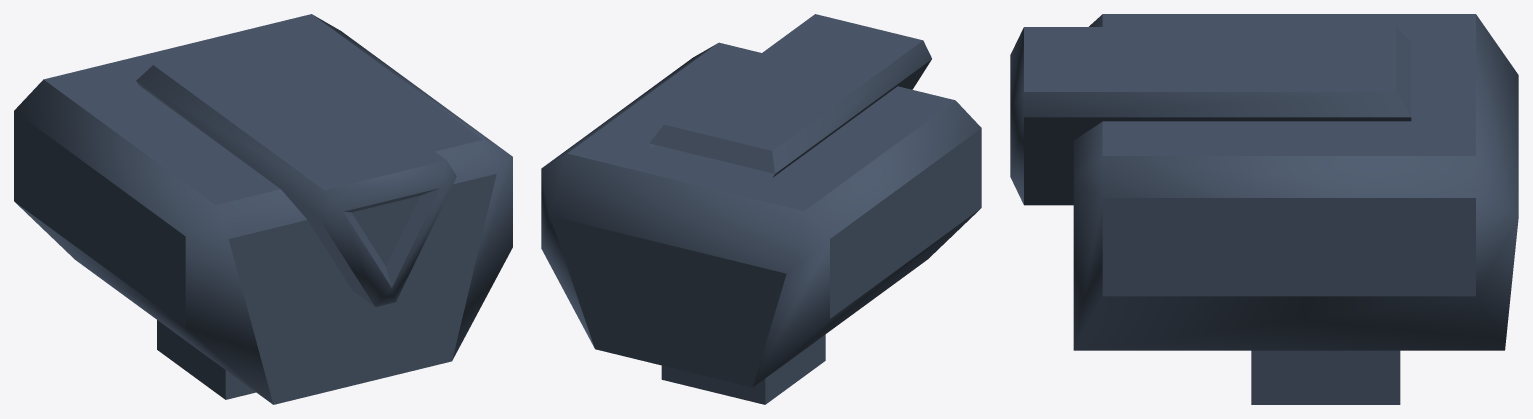
The model's file is acs17_part1_head2.fbx.
3 renders of one model, left to right at view 1: azimuth 30°, elevation 25°; view 2: azimuth 150°, elevation 25°; view 3: azimuth 270°, elevation 25°, orthographic. The views are drawn at different scales.
Visible parts, largest first — view 1: Box064, Cylinder054, Box099; view 2: Box064, Cylinder054, Box099; view 3: Box064, Cylinder054, Box099.
Part boxes in pixels (box(x1,y1,x2,y2)): Box064: box(14, 14, 512, 404); Cylinder054: box(136, 35, 456, 306); Box099: box(157, 320, 255, 399); Box064: box(541, 42, 981, 387); Cylinder054: box(649, 14, 931, 177); Box099: box(661, 334, 825, 404); Box064: box(1073, 14, 1518, 350); Cylinder054: box(1010, 27, 1411, 205); Box099: box(1251, 350, 1400, 404).
Bounding box in the file's own units: 66.19 × 55.63 × 82.
